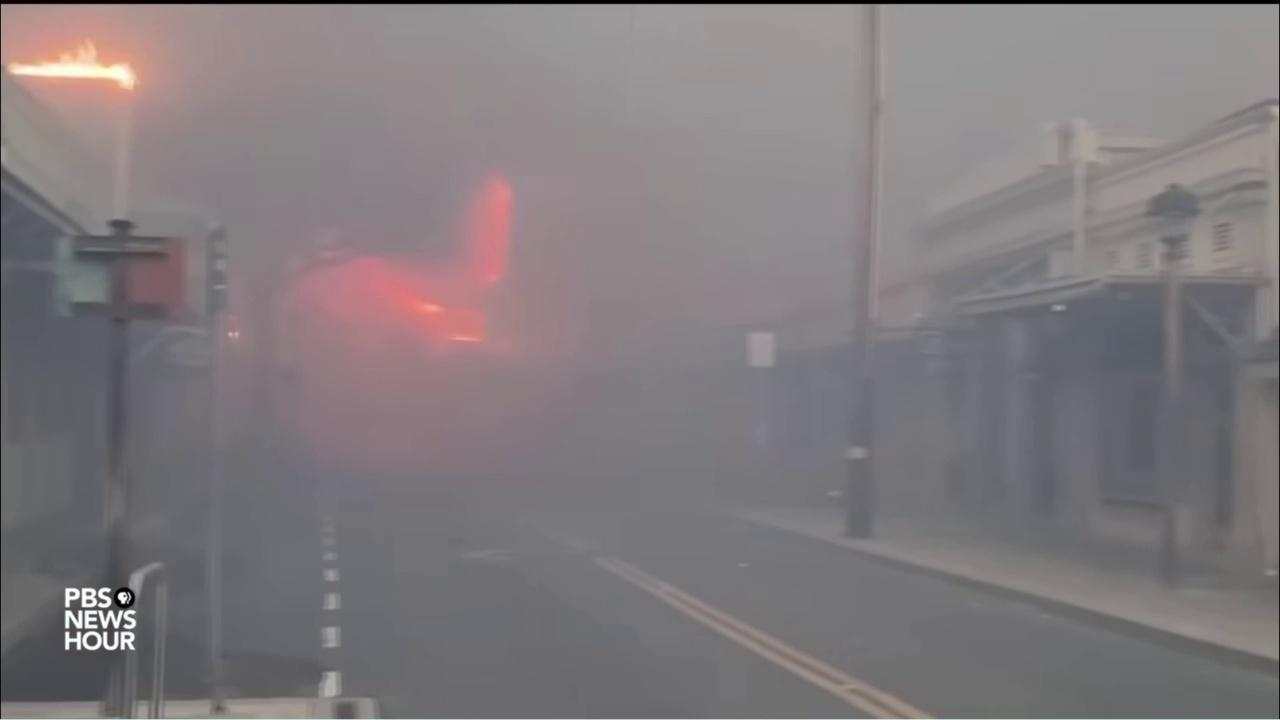fire: (302, 173, 514, 345), (5, 35, 144, 89)
smoke: (1, 4, 1280, 720)
